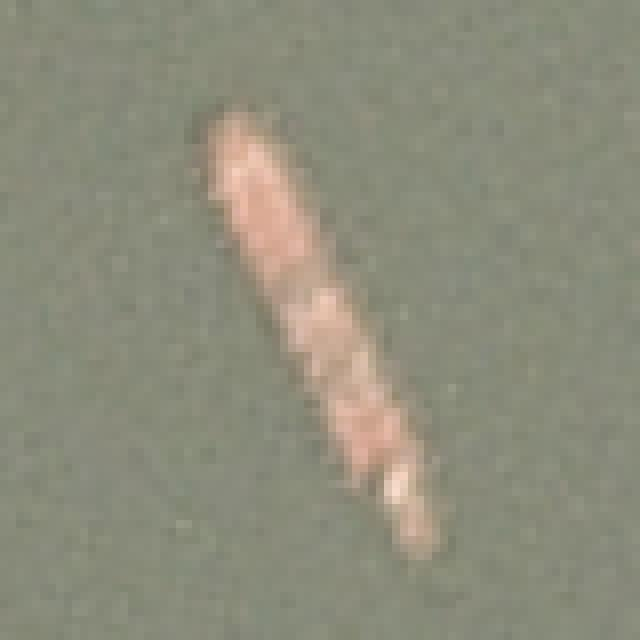ship: (162, 63, 514, 593)
